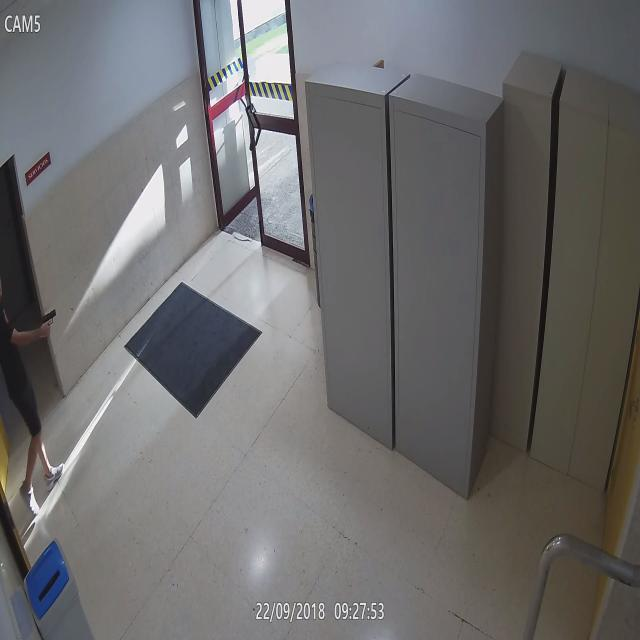Gun: (36, 307, 58, 339)
